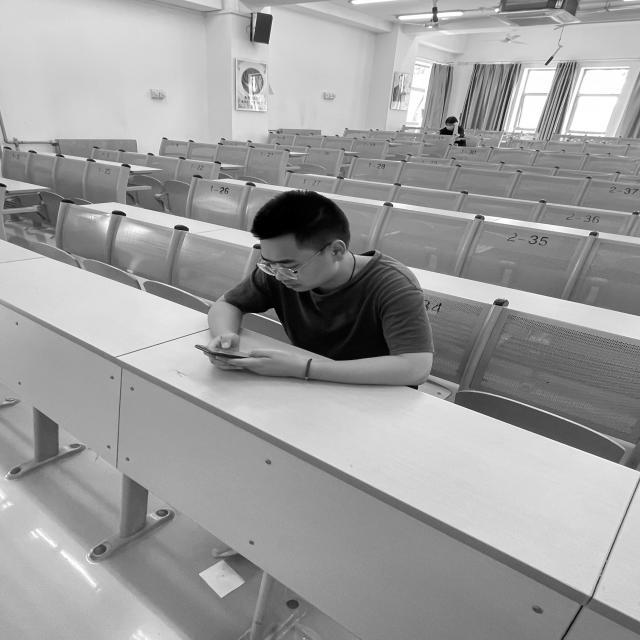phone: (196, 190, 434, 385)
